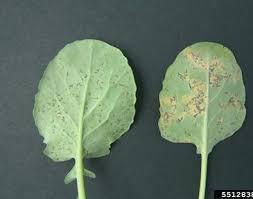Bok-Choy-Diseased: (38, 51, 132, 154), (160, 46, 242, 142)
